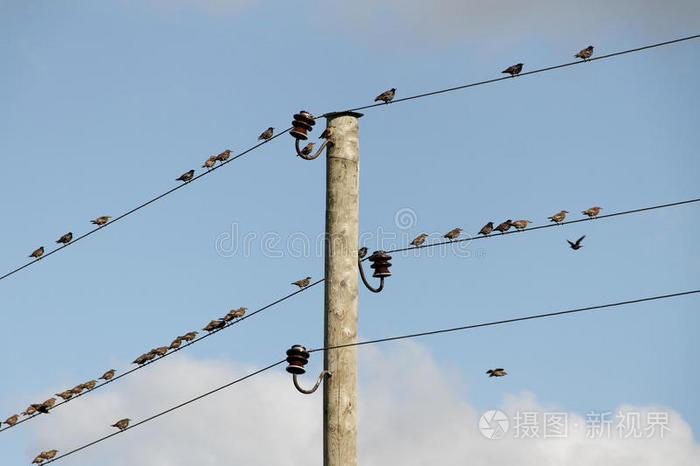insulator: (290, 113, 315, 142), (286, 347, 311, 374), (368, 252, 392, 277)
